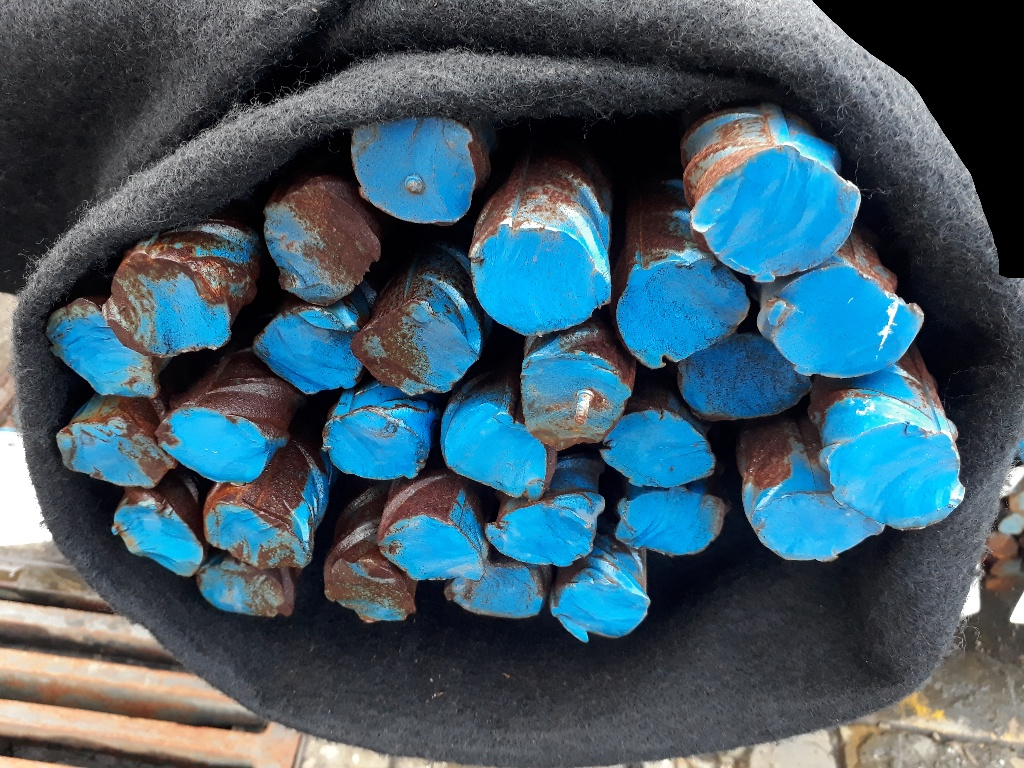dipstick: (687, 143, 865, 284), (757, 263, 925, 380), (467, 226, 613, 338), (826, 420, 966, 532), (259, 179, 382, 306), (614, 257, 750, 364), (346, 117, 480, 224), (104, 253, 235, 360), (350, 299, 481, 395), (42, 296, 162, 397), (673, 334, 813, 420), (514, 351, 627, 454), (749, 491, 891, 567), (253, 303, 366, 396), (445, 412, 556, 501), (598, 410, 718, 490), (155, 405, 268, 487), (54, 422, 176, 491), (615, 486, 729, 558), (201, 499, 315, 569), (110, 495, 207, 577), (322, 410, 429, 484), (487, 498, 598, 568), (376, 514, 488, 582), (551, 577, 657, 645), (319, 557, 422, 626), (198, 559, 302, 618), (442, 564, 551, 618)
